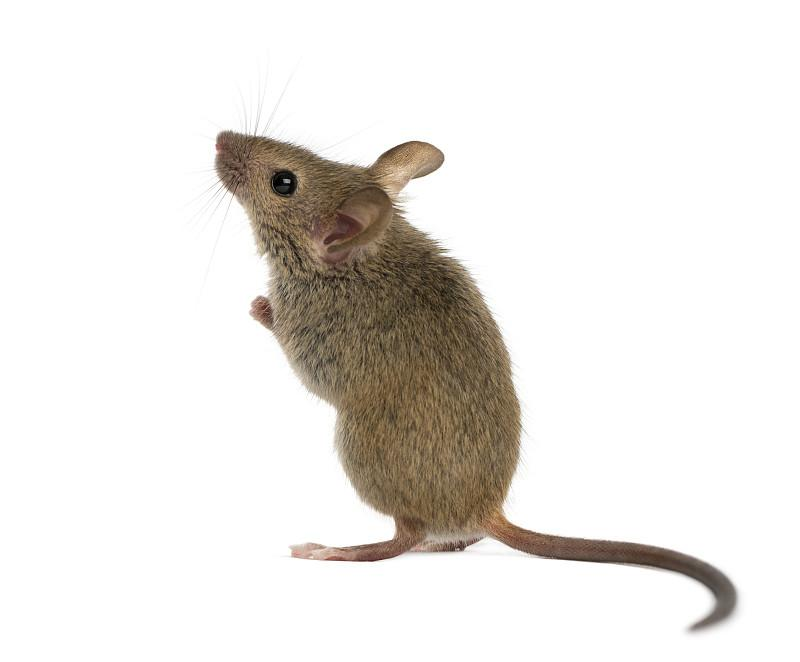rat: (188, 90, 602, 575)
